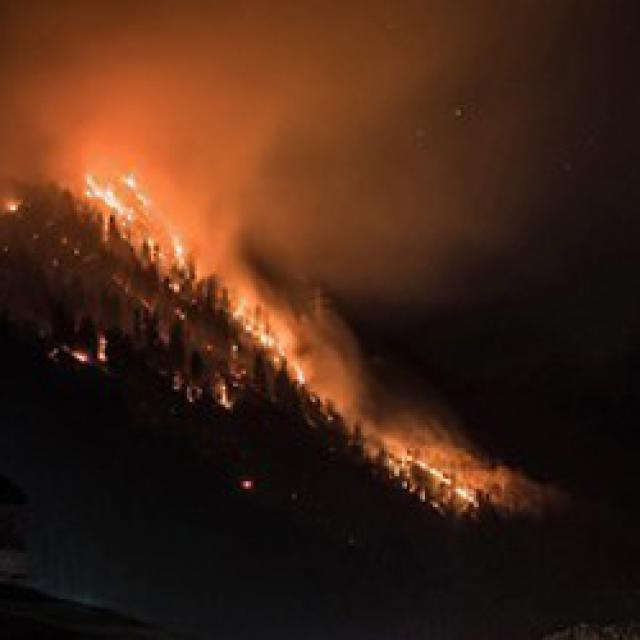Fire: (0, 142, 209, 296), (344, 392, 566, 528), (196, 272, 324, 396), (109, 256, 194, 326), (171, 352, 257, 420), (32, 326, 134, 383), (50, 219, 89, 260), (235, 463, 273, 501)
Smoke: (0, 0, 525, 268), (288, 274, 402, 442)
